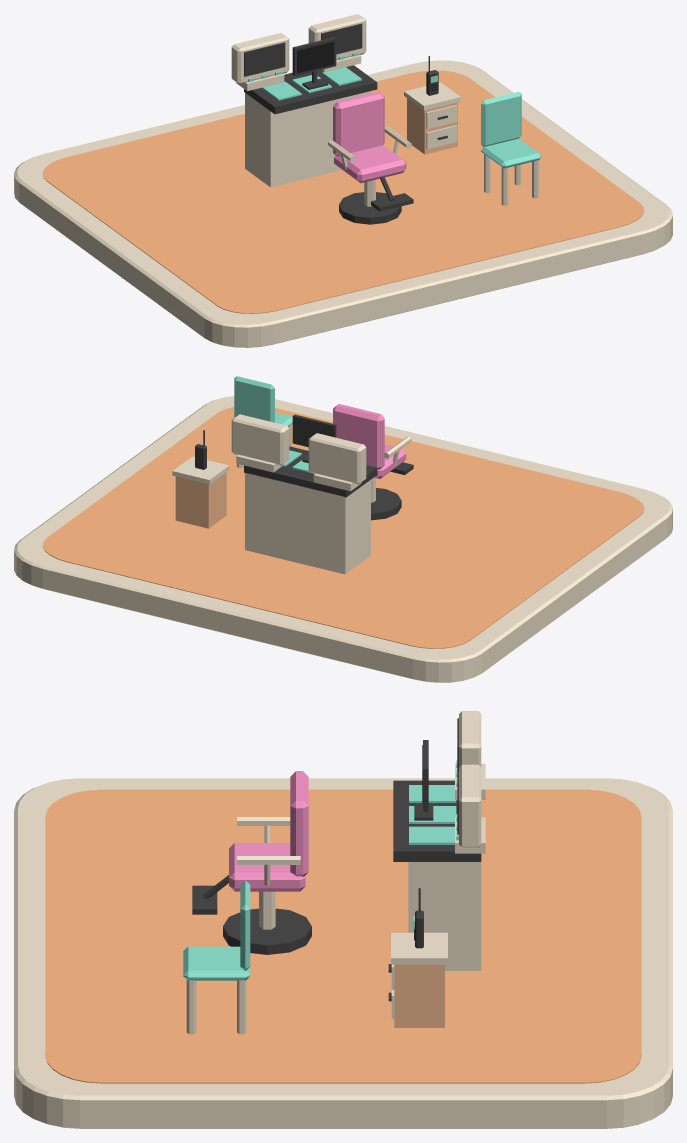
The model's file is room.fbx.
3 views of the same model, one above another, from view 1: azimuth 30°, elevation 25°; view 2: azimuth 150°, elevation 25°; view 3: azimuth 270°, elevation 25° (orthographic). The views are drawn at different scales.
Visible parts, largest first — view 1: COM-02 Floor Surface, COM-01 Rounded Base Direct, Console, Back, Panel, Backrest, Seat, Frame, Housing, Body, Base, Seat.001 (+6 smaller); view 2: COM-02 Floor Surface, COM-01 Rounded Base Direct, Console, Housing, Housing.001, Body, Back, Backrest, Panel, Frame, Top, Base; view 3: COM-02 Floor Surface, COM-01 Rounded Base Direct, Console, Body, Panel, Base, Seat, Seat.001, Housing.001, Back, Top, Housing (+6 smaller).
Part boxes in pixels (x1,y1,x2,y2): COM-02 Floor Surface: (42,70,644,313); COM-01 Rounded Base Direct: (14,60,672,347); Console: (245,91,370,187); Back: (333,91,384,156); Panel: (244,65,377,114); Backrest: (481,91,521,146); Seat: (334,145,406,183); Frame: (292,37,336,89); Housing: (231,33,289,84); Body: (407,98,457,154); Base: (339,192,401,224); Seat.001: (481,138,541,168); COM-02 Floor Surface: (42,407,644,648); COM-01 Rounded Base Direct: (14,396,672,682); Console: (245,472,370,574); Housing: (308,433,366,484); Housing.001: (231,414,289,465); Body: (175,472,226,528); Back: (333,404,384,469); Backrest: (234,376,274,422); Panel: (244,446,377,497); Frame: (292,414,336,462); Top: (172,456,229,484); Base: (371,488,401,520); COM-02 Floor Surface: (45,789,641,1083); COM-01 Rounded Base Direct: (14,778,672,1128); Console: (408,862,481,970); Body: (394,964,444,1027); Panel: (393,780,481,861); Base: (223,908,311,954); Seat: (229,843,305,891); Seat.001: (183,946,250,980); Housing.001: (459,764,481,847); Back: (290,771,308,876); Top: (391,932,447,964); Housing: (459,711,481,767).
Bounding box in the file's own units: 600 × 188 × 520.
